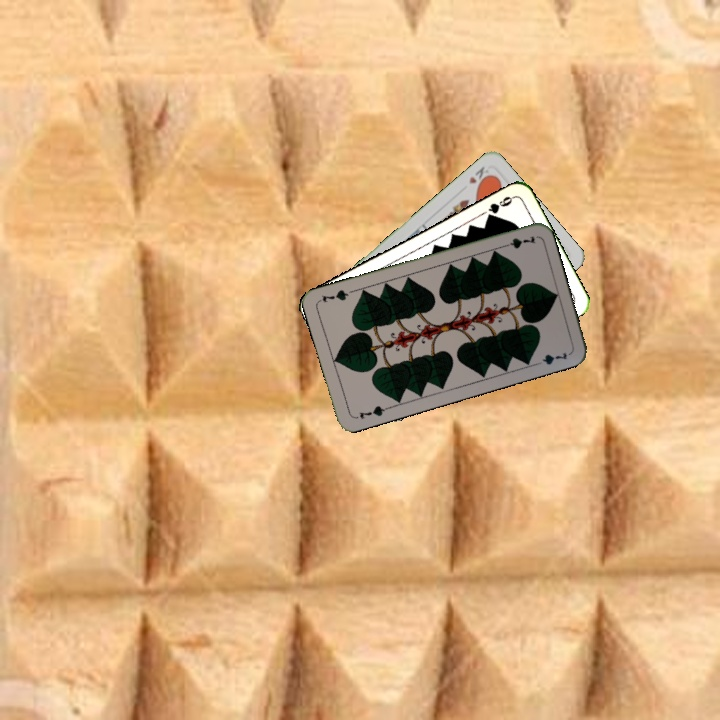G7: (497, 231, 538, 251), (351, 402, 391, 422)
G9: (483, 192, 517, 222)
HK: (465, 162, 494, 190)
